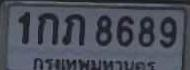1: (18, 11, 29, 43)
6: (116, 16, 133, 46)
8: (95, 14, 111, 45), (138, 15, 154, 46)
9: (159, 16, 176, 47)
A01: (37, 12, 58, 44)
A32: (61, 13, 84, 45)
BKK: (32, 54, 159, 70)
